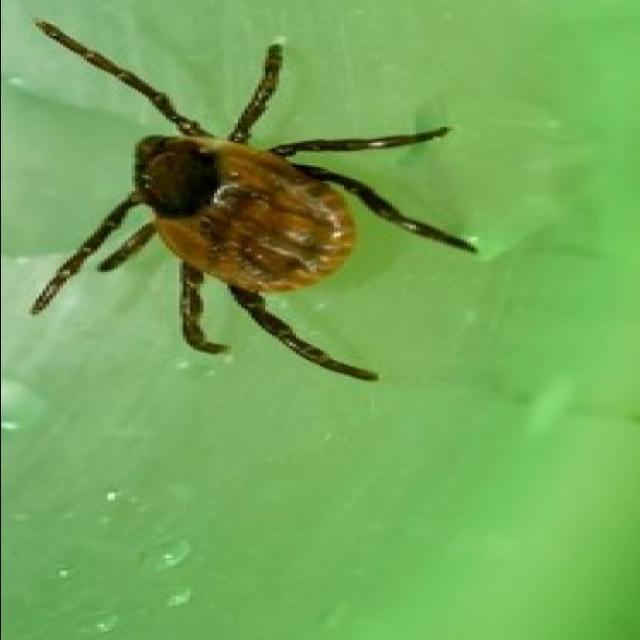Rhipicephalus Sanguineus-F: (31, 20, 477, 379)
